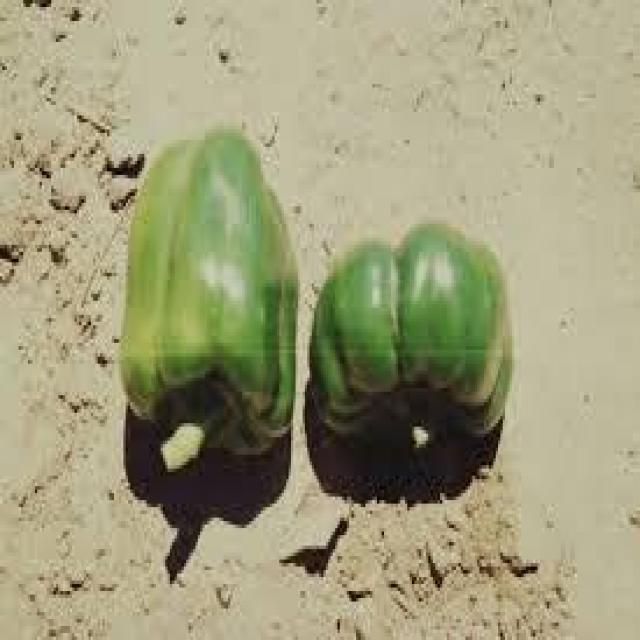bell_pepper: (106, 130, 304, 489), (306, 219, 527, 482)
